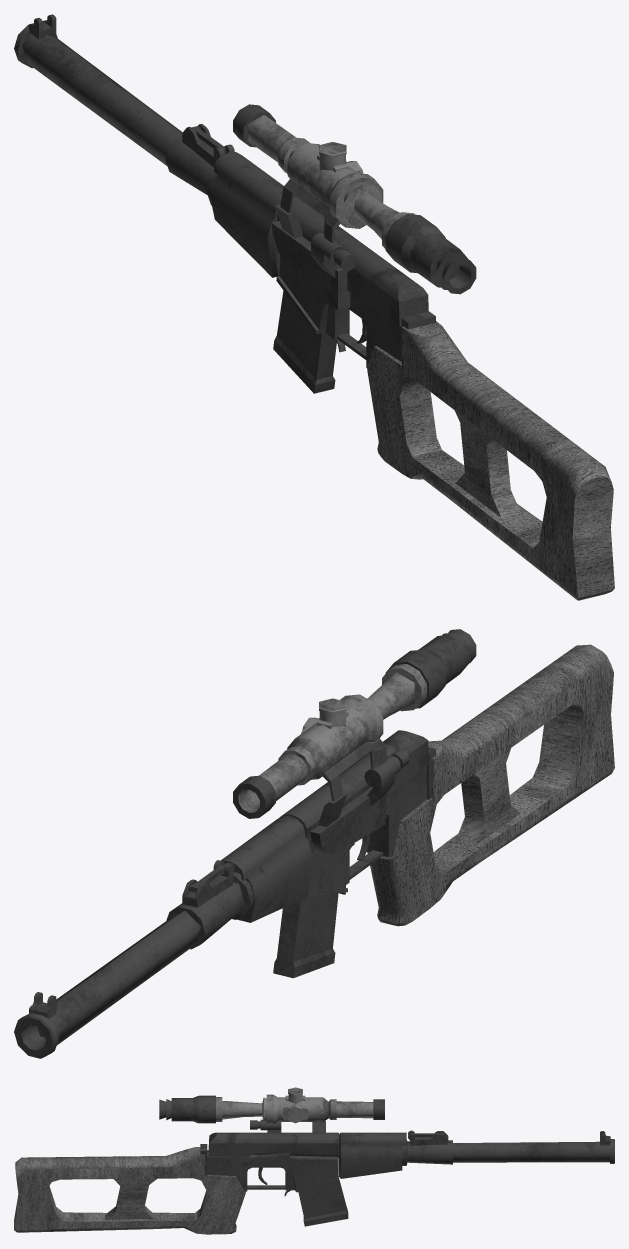
Rendered from vvs.fbx.
3 views of the same model, one above another, from view 1: azimuth 30°, elevation 25°; view 2: azimuth 150°, elevation 25°; view 3: azimuth 270°, elevation 25° (orthographic). The views are drawn at different scales.
Parts seen in each view (by area): view 1: Cylinder.011; view 2: Cylinder.011; view 3: Cylinder.011.
Part boxes in pixels (x1,y1,x2,y2): Cylinder.011: (14, 14, 614, 600); Cylinder.011: (14, 629, 614, 1058); Cylinder.011: (14, 1087, 614, 1234).
Bounding box in the file's own units: 0.0667 × 0.2837 × 1.1.
